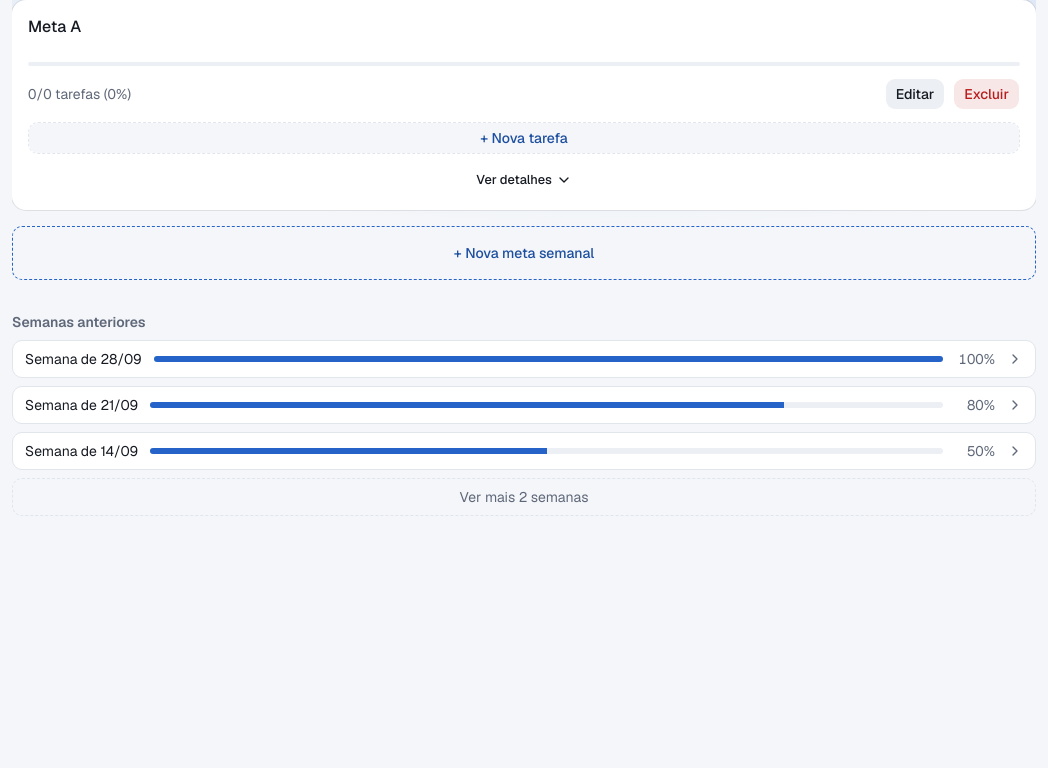
WeeklyGoalsPanel › earlier weeks › loads a week's goals only when its row is opened, and collapses it again
The image size is (1048, 768).
Click the button "Semana de 21/09 80%" at coordinates (524, 405), box [12,386,1036,424]
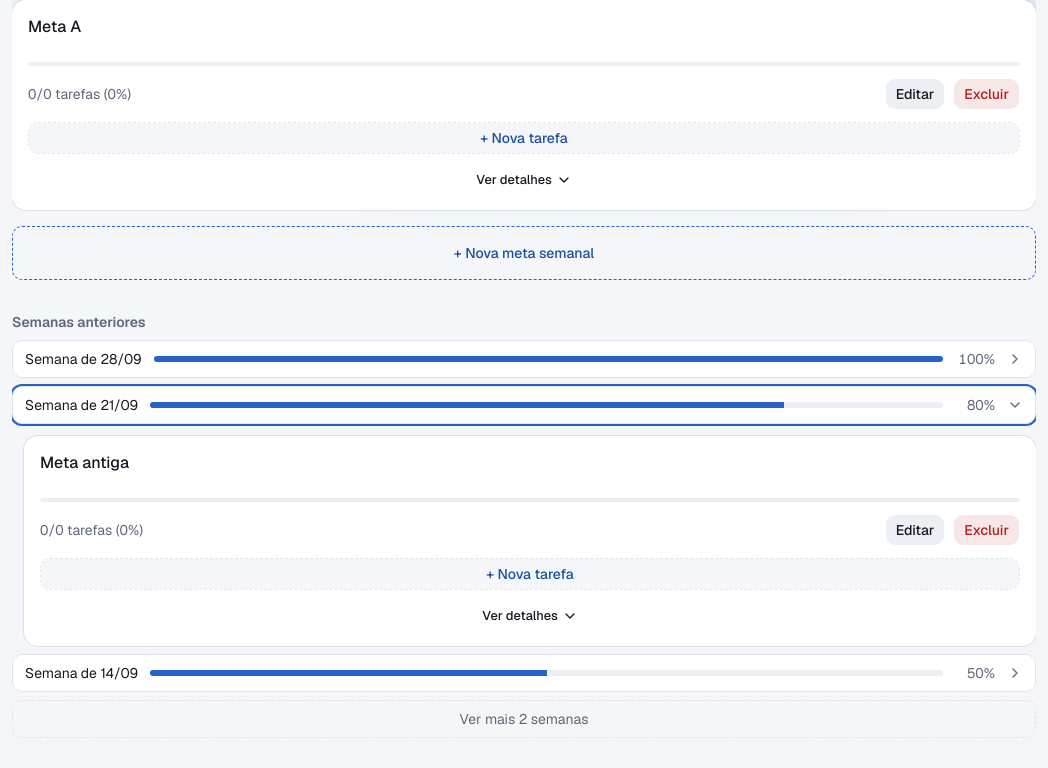
expect the link "Meta antiga" is shown: met, box [40,452,129,473]
expect the button "Semana de 21/09 80%" is expanded: met
Click the button "Semana de 21/09 80%" at coordinates (524, 405), box [12,386,1036,424]
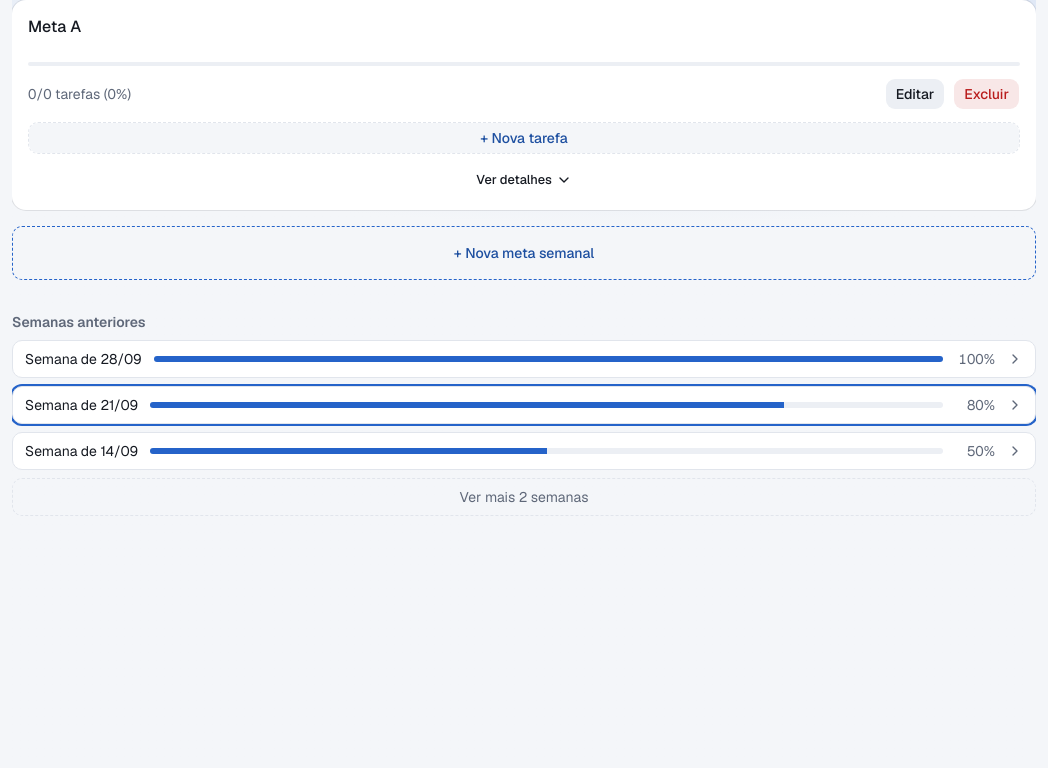
expect the link "Meta antiga" is gone: met
